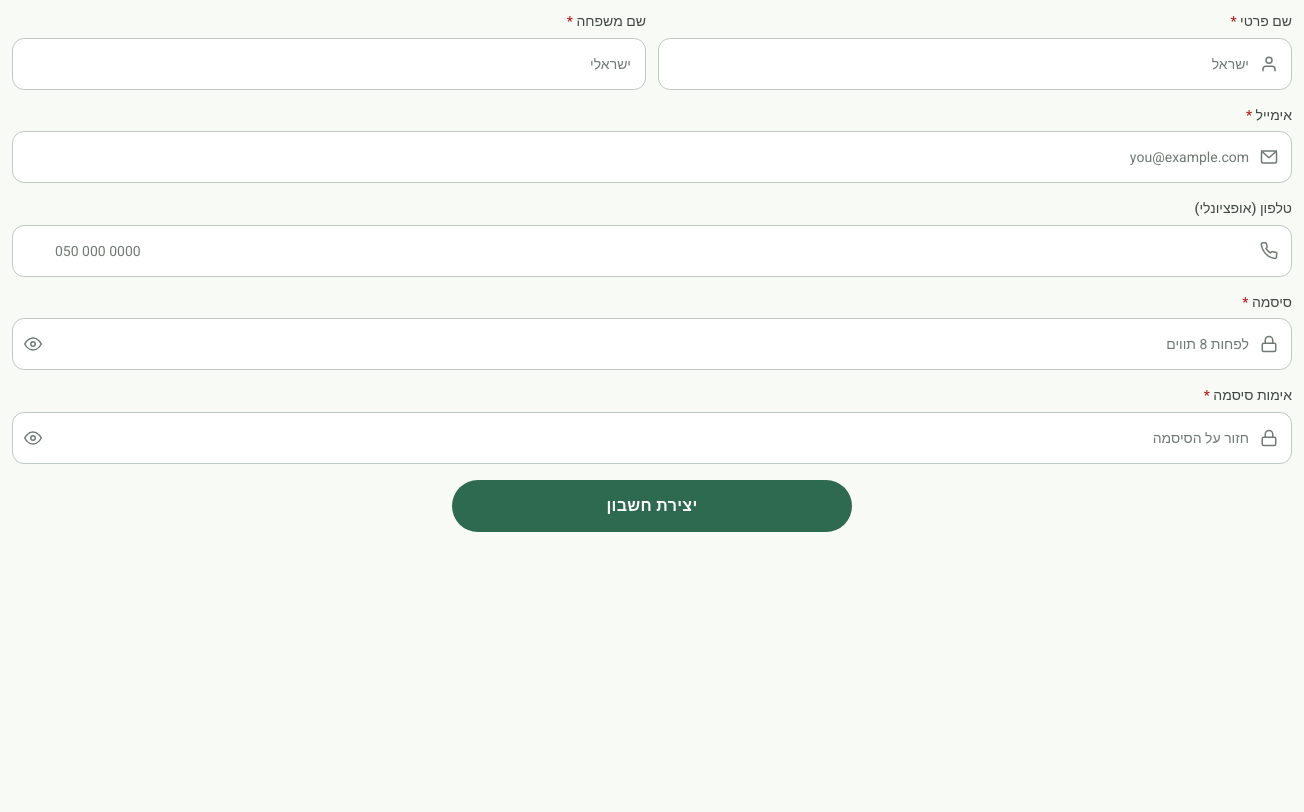
Scenario: RegisterFormB2C › rejects a password shorter than 8 chars
Step 1. Type "דנה" into the field labelled "שם פרטי *" → point(975, 64), box 658,38 -> 1292,90
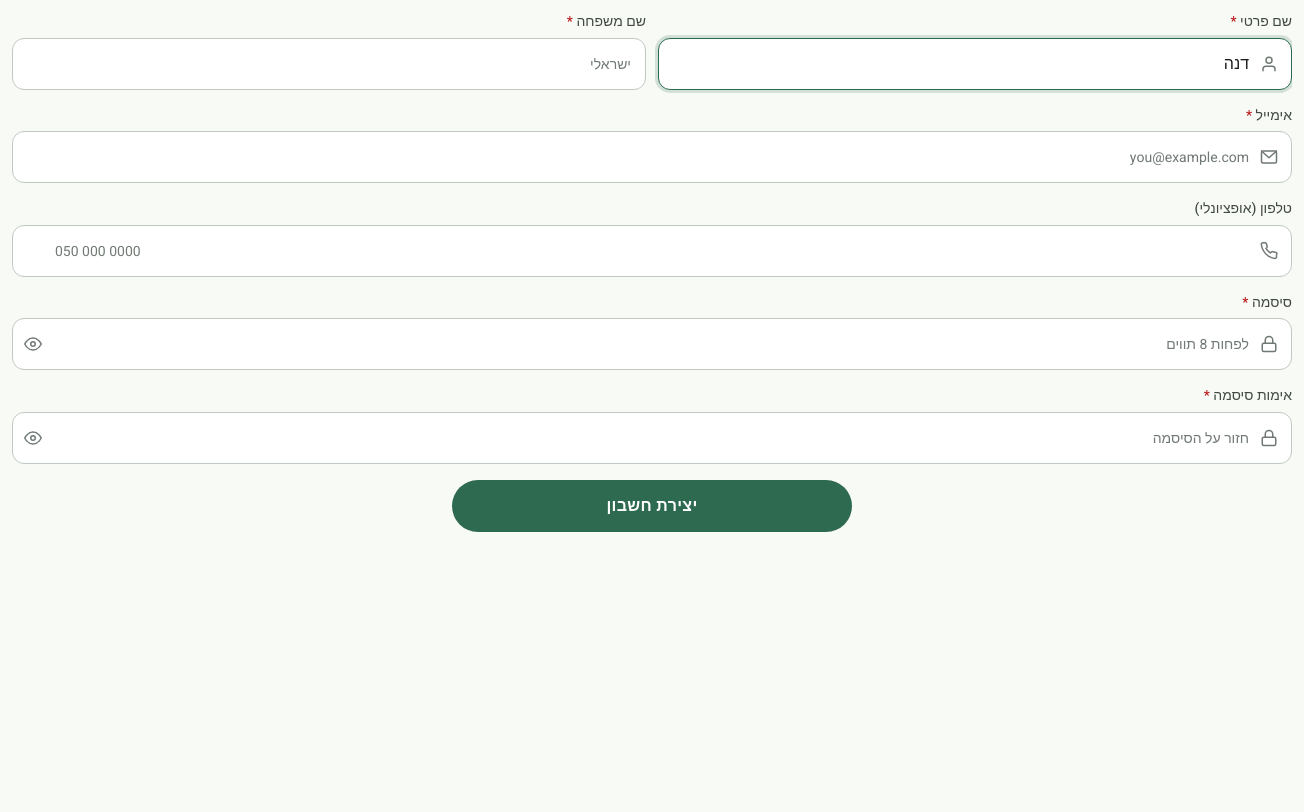
Step 2. Type "כהן" into the field labelled "שם משפחה *" → point(329, 64), box 12,38 -> 646,90
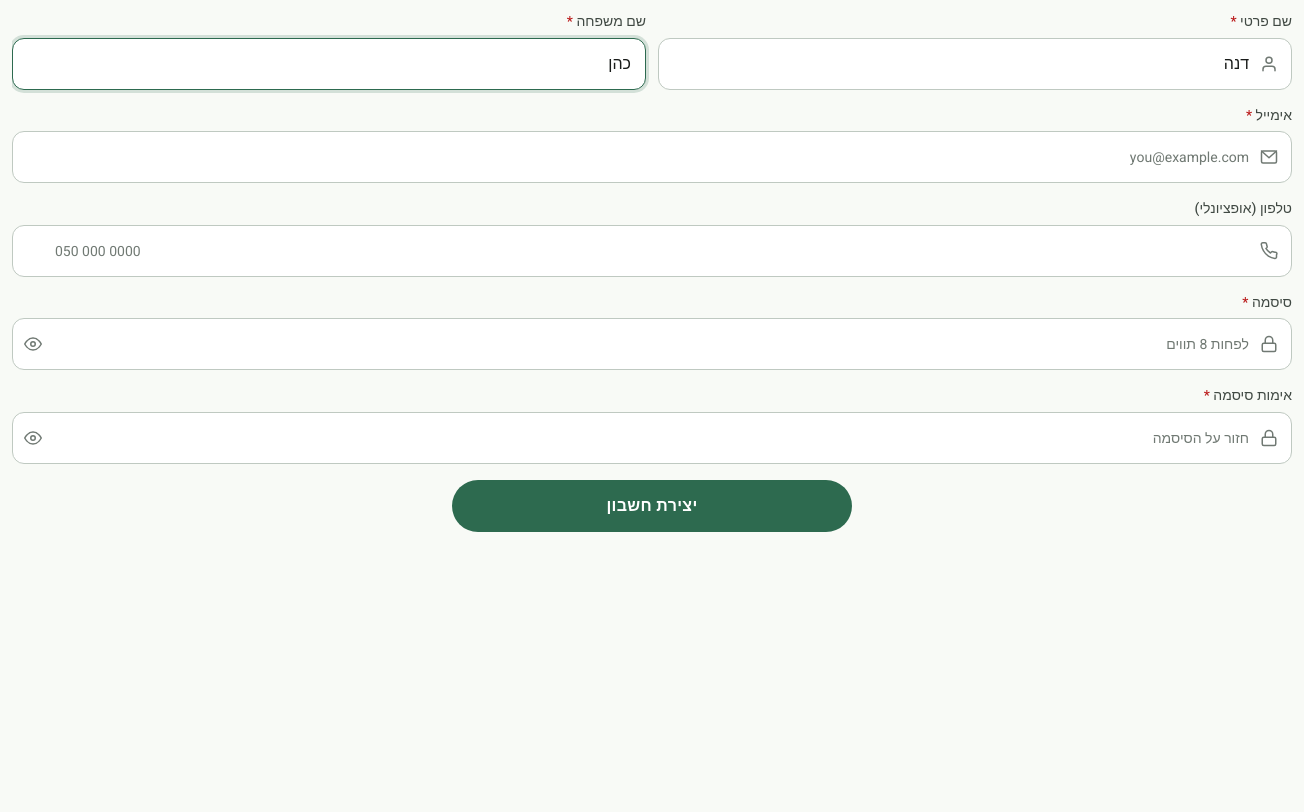
Step 3. Type "dana@last.co" into the field labelled "אימייל *" → point(652, 157), box 12,131 -> 1292,183
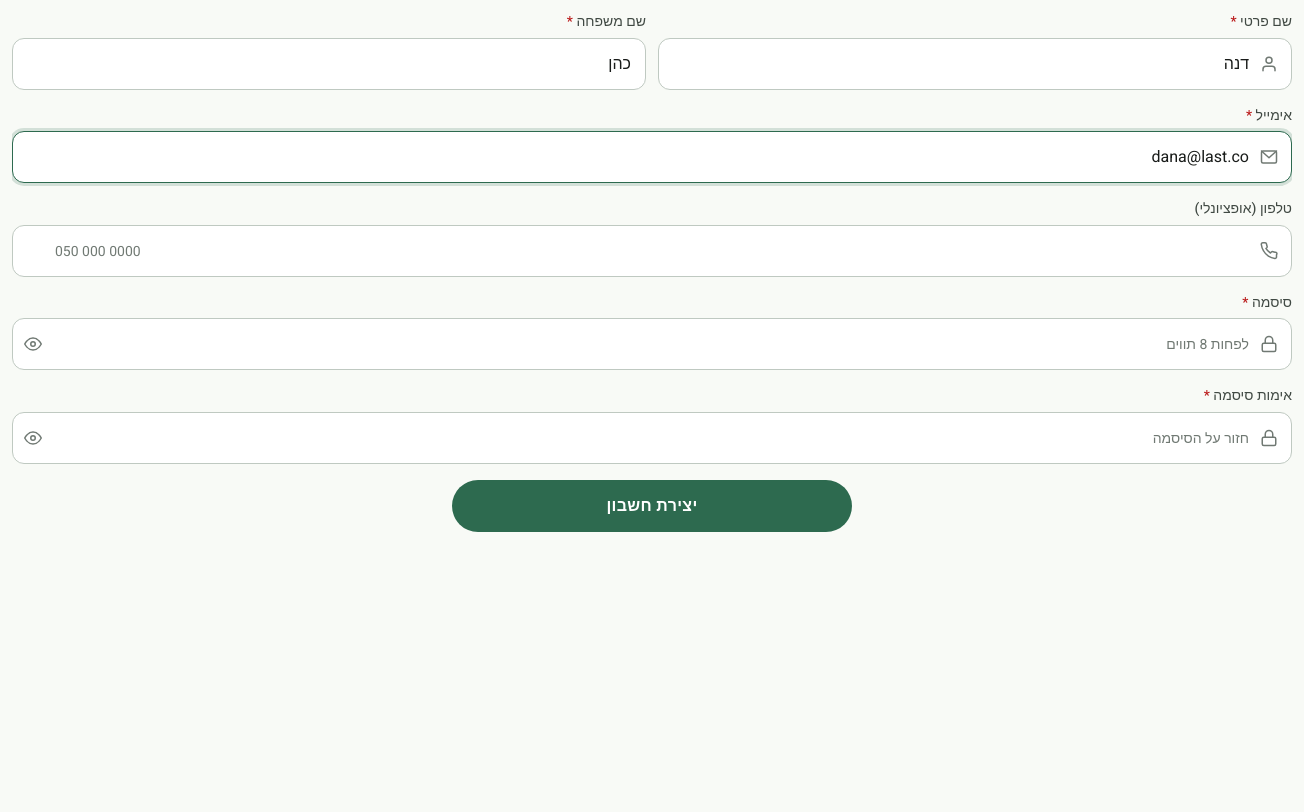
Step 4. Type "123" into the password field labelled "סיסמה *" → point(652, 344), box 12,318 -> 1292,370
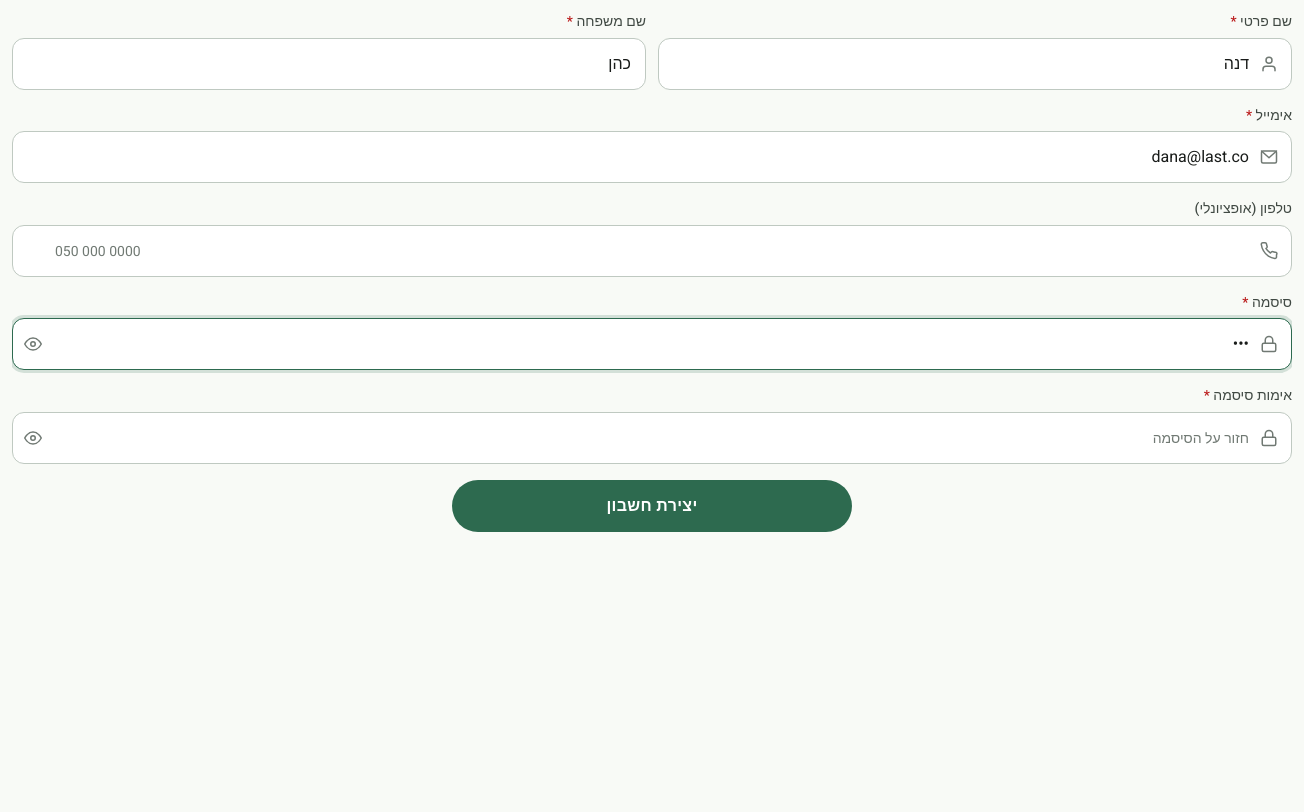
Step 5. Type "123" into the password field labelled "אימות סיסמה *" → point(652, 438), box 12,412 -> 1292,464
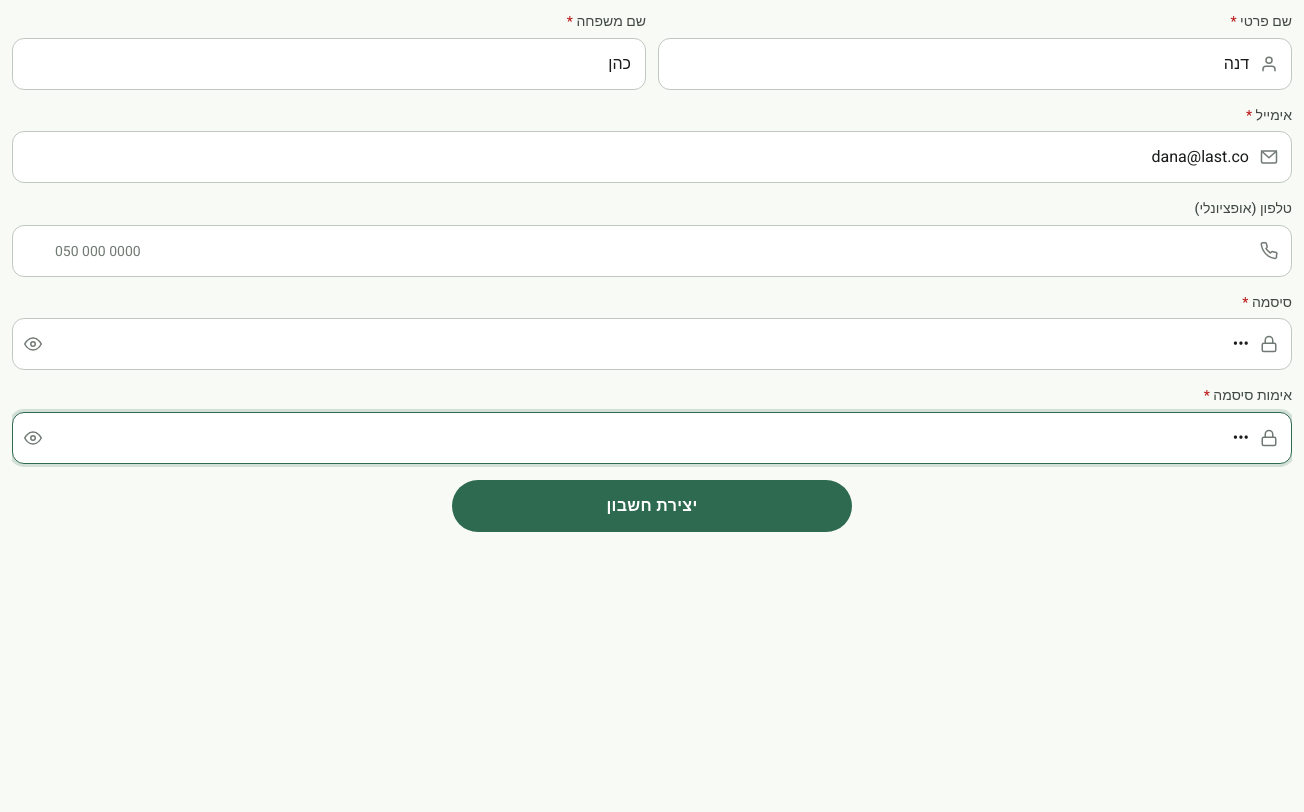
Step 6. Click the button "יצירת חשבון" → point(652, 506), box 452,480 -> 852,532
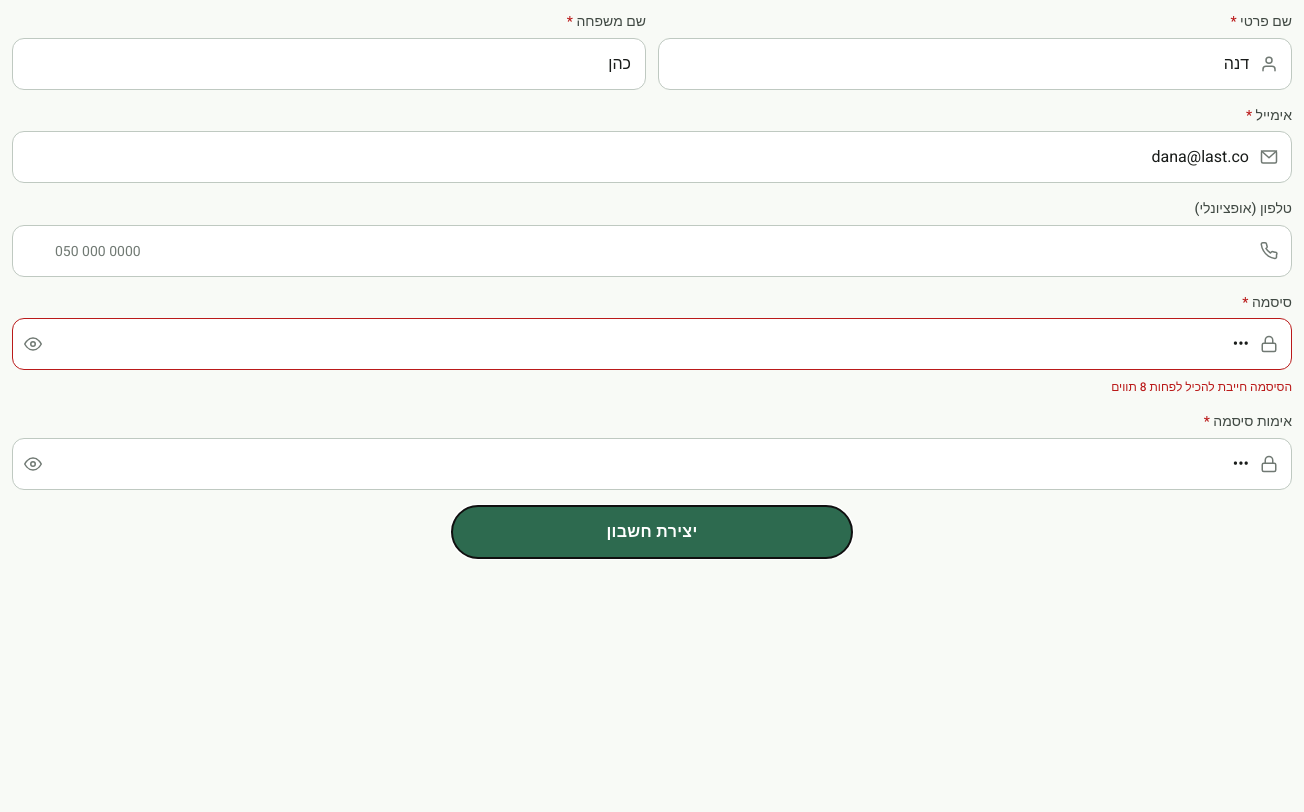
Now the text "הסיסמה חייבת להכיל לפחות 8 תווים" is shown, box 1111,378 -> 1292,396
